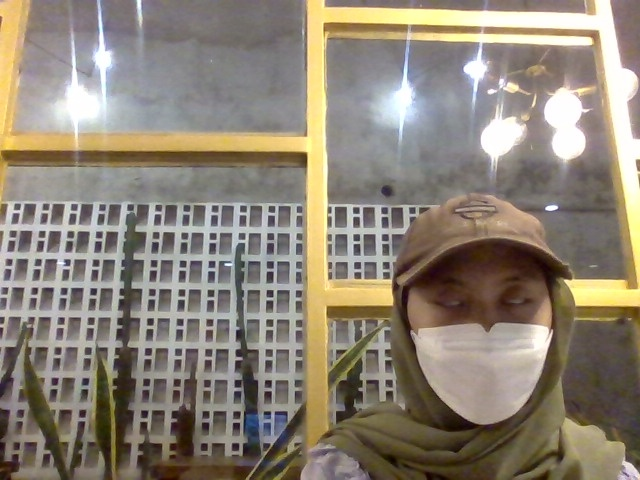Drowsy: (358, 174, 598, 462)
